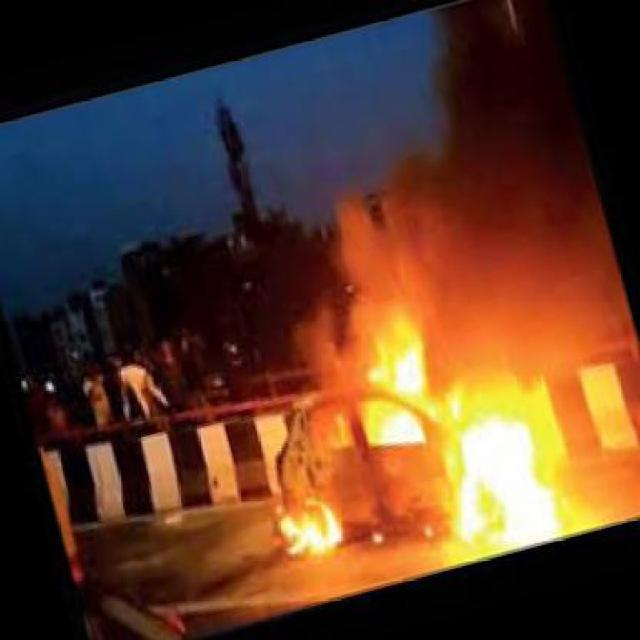Fire: (446, 414, 566, 557), (359, 332, 432, 454), (260, 493, 344, 556)
Smoke: (432, 121, 600, 367), (262, 188, 436, 334), (432, 7, 522, 118)
